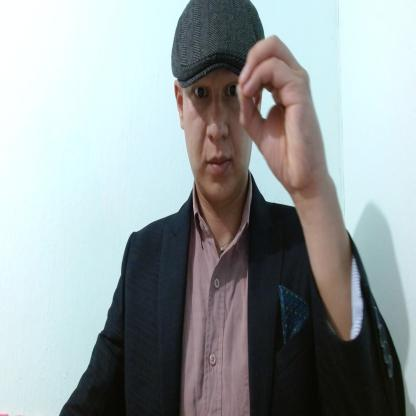O: (235, 31, 327, 194)
